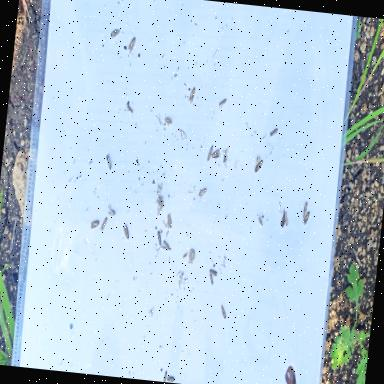pbw: (128, 32, 136, 54), (254, 158, 264, 174), (206, 144, 214, 164), (104, 154, 112, 171), (122, 224, 130, 240), (188, 88, 196, 104), (100, 217, 108, 233), (110, 28, 120, 40), (302, 200, 308, 220), (166, 214, 174, 228), (90, 219, 100, 230), (162, 241, 172, 252), (303, 211, 310, 226), (156, 231, 163, 246), (212, 150, 222, 160), (269, 127, 278, 138), (220, 306, 227, 320), (198, 188, 206, 200), (224, 150, 230, 164), (219, 98, 226, 110), (164, 118, 172, 128), (166, 376, 176, 384), (208, 269, 218, 277), (209, 274, 214, 286), (127, 106, 134, 114), (108, 210, 116, 216), (164, 371, 168, 382), (183, 252, 188, 259), (166, 230, 169, 238)
